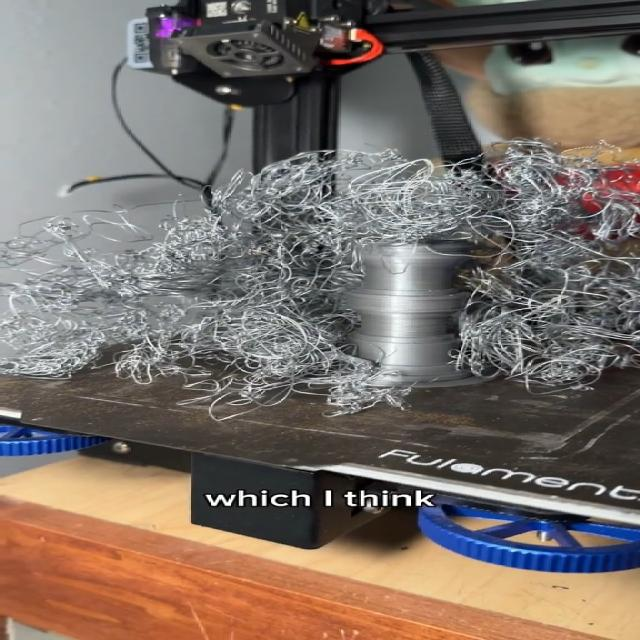spaghetti: (2, 136, 637, 422)
